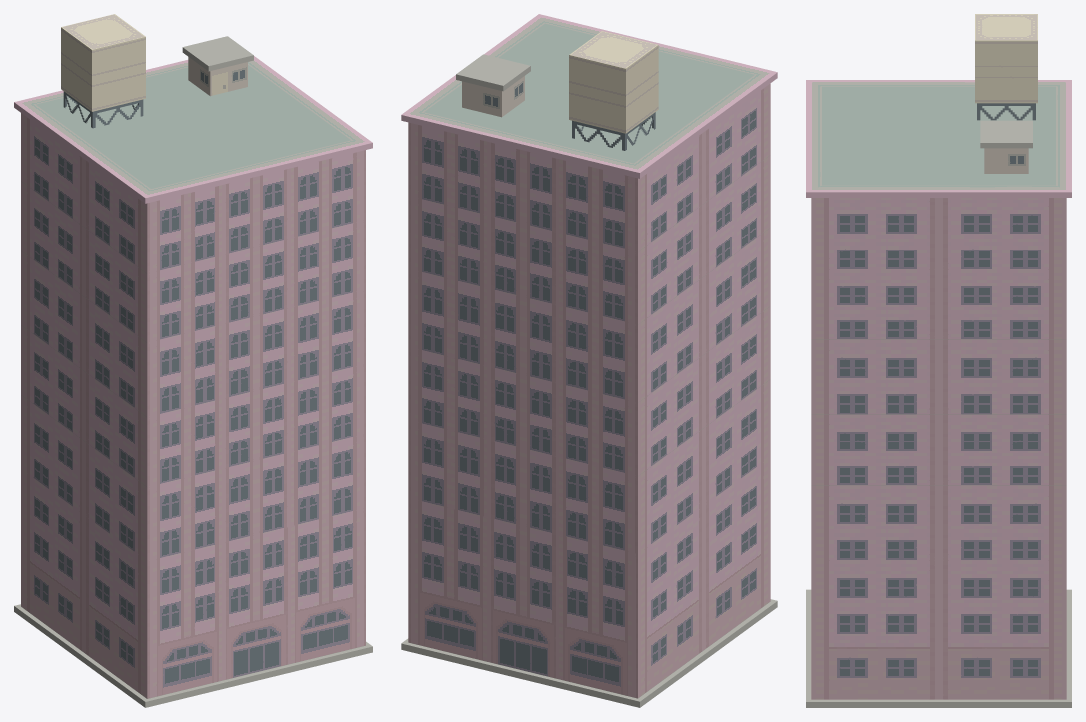
File: 017e_Goldfish_Building.glb
3 renders of one model, left to right at view 1: azimuth 30°, elevation 25°; view 2: azimuth 150°, elevation 25°; view 3: azimuth 270°, elevation 25°, orthographic. The views are drawn at different scales.
Visible parts, largest first — view 1: part_0; view 2: part_0; view 3: part_0.
Boxes of the visible parts, x1,y1,x2,y2 form: part_0: [14, 14, 372, 707]; part_0: [401, 14, 777, 707]; part_0: [806, 14, 1071, 707].
Size of the model in its own units: 20 by 49.51 by 20.
Materials: 1 (1 with a texture image).
